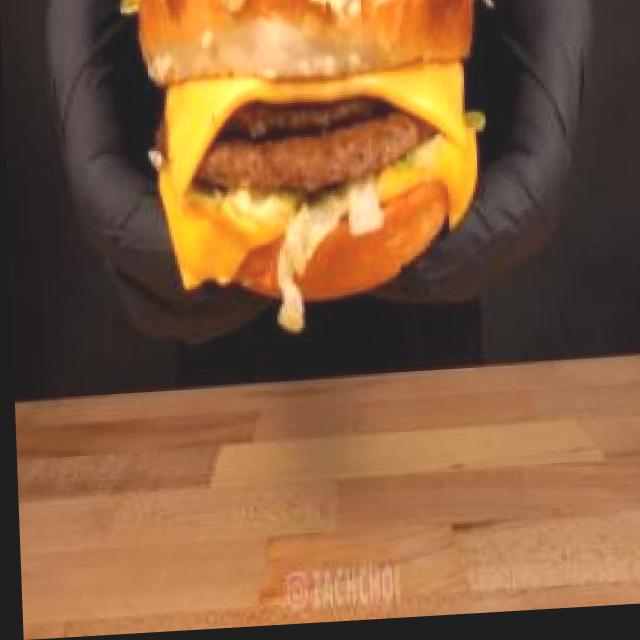burger: (120, 0, 511, 359)
